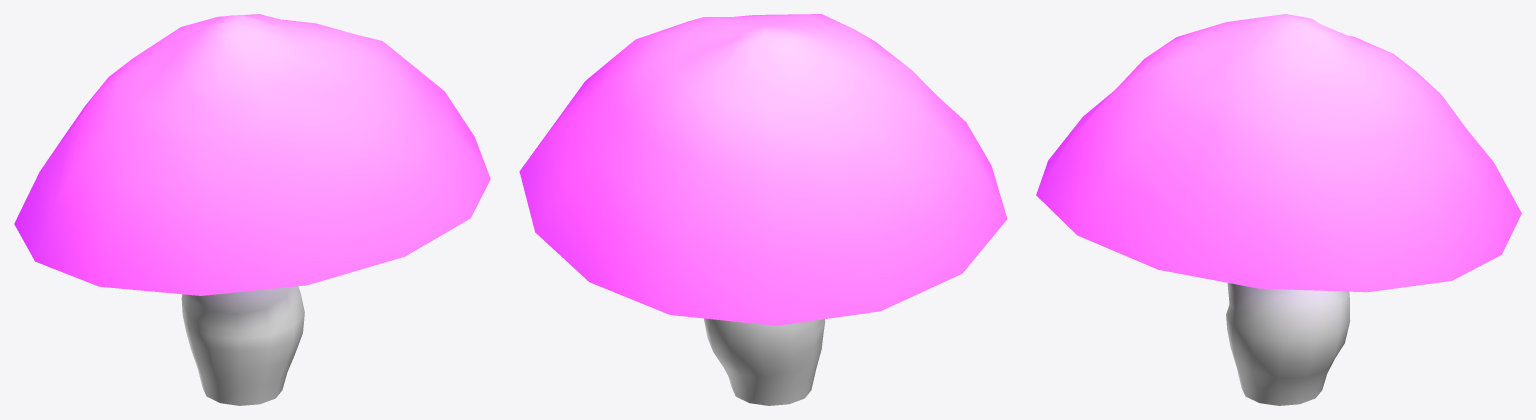
File: mushroom_8.glb
3 views of the same model, side by side, from view 1: azimuth 30°, elevation 25°; view 2: azimuth 150°, elevation 25°; view 3: azimuth 270°, elevation 25° (orthographic).
Visible parts, largest first — view 1: geo1; view 2: geo1; view 3: geo1.
Boxes of the visible parts, x1=… form: geo1: x1=14, y1=14, x2=490, y2=405; geo1: x1=519, y1=14, x2=1007, y2=405; geo1: x1=1036, y1=14, x2=1521, y2=405.
Bounding box in the file's own units: 0.2591 × 0.2135 × 0.2558.
